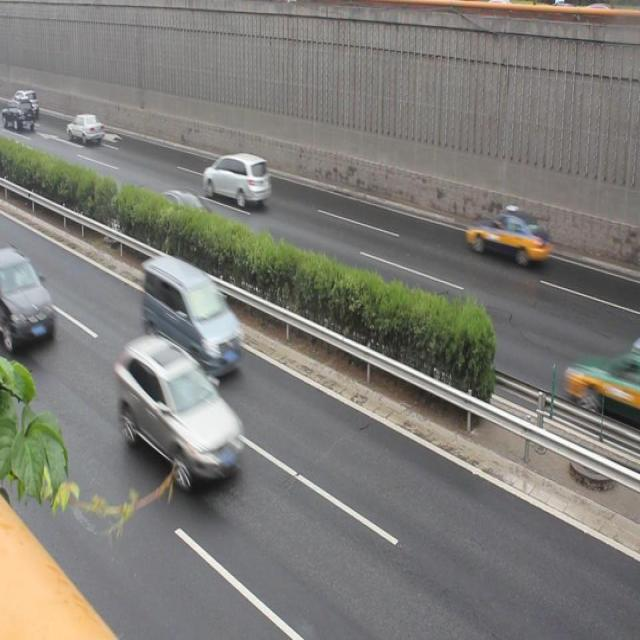car: (116, 338, 242, 481), (564, 346, 640, 422), (1, 245, 54, 352), (465, 208, 550, 266), (139, 189, 213, 244), (202, 152, 270, 206)
truck: (142, 257, 241, 371)
